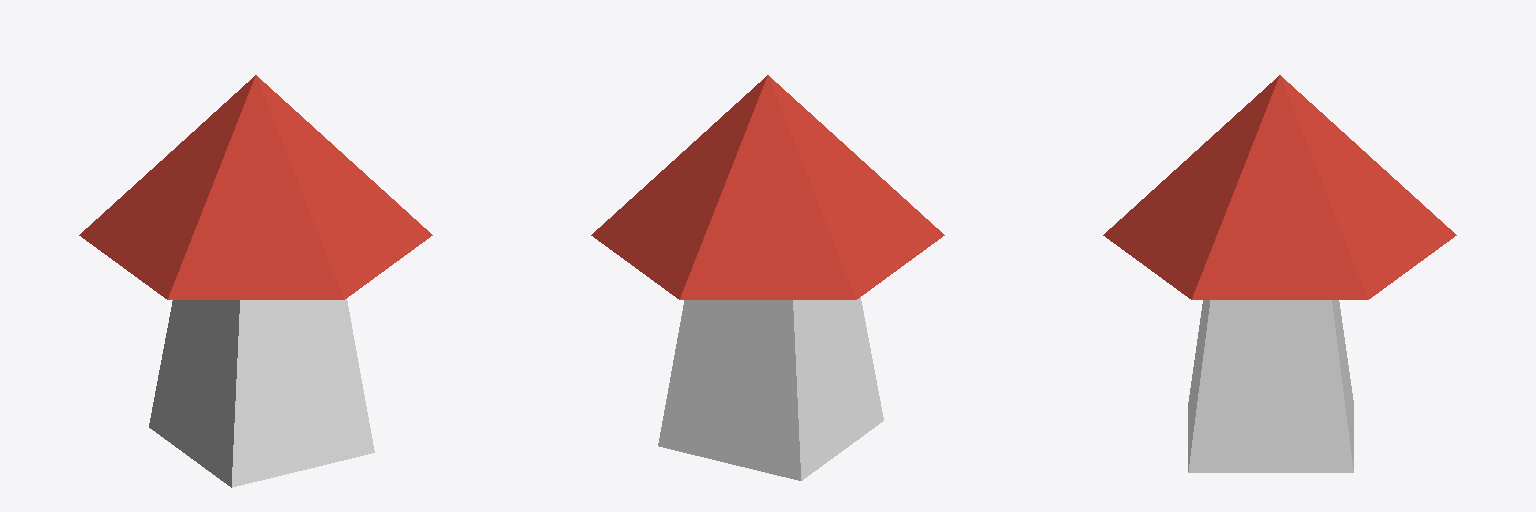
3 views of the same model, side by side, from view 1: azimuth 30°, elevation 25°; view 2: azimuth 150°, elevation 25°; view 3: azimuth 270°, elevation 25° (orthographic).
Visible parts, largest first — view 1: Mesh1 Mushroom_Red Model; view 2: Mesh1 Mushroom_Red Model; view 3: Mesh1 Mushroom_Red Model.
Part boxes in pixels (x1,y1,x2,y2): Mesh1 Mushroom_Red Model: (79,75,432,487); Mesh1 Mushroom_Red Model: (591,75,944,480); Mesh1 Mushroom_Red Model: (1103,75,1456,472).
Size of the model in its own units: 0.4349 by 0.567 by 0.5022.
Materials: 1 (1 with a texture image).